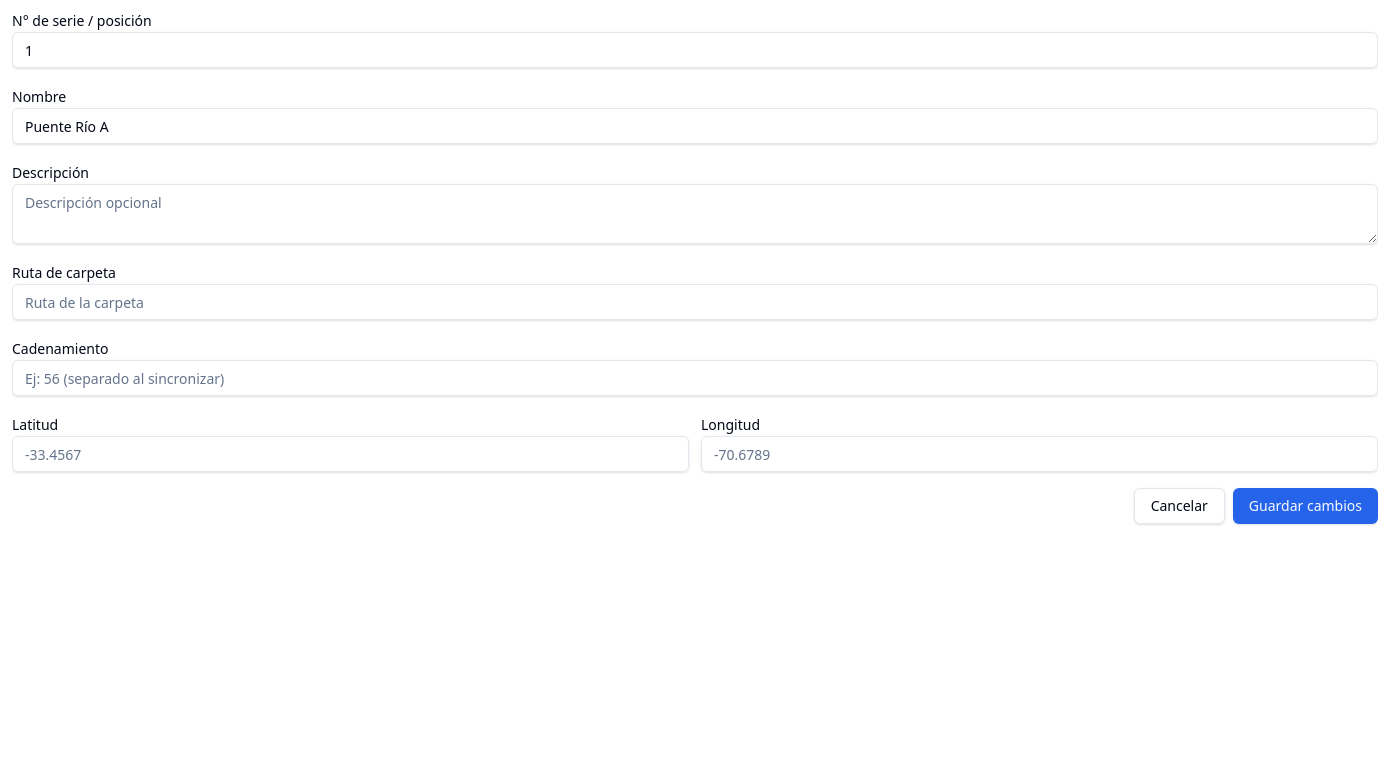
Test case: FormularioPunto — validación async de nombre duplicado › muestra el error de duplicado tras el debounce de 500ms
The width and height of the screenshot is (1390, 768).
Replace the text in the field labelled "Nombre" with "Túnel Norte": coordinates (695, 126) [12,108,1378,144]
Wait 600 ms
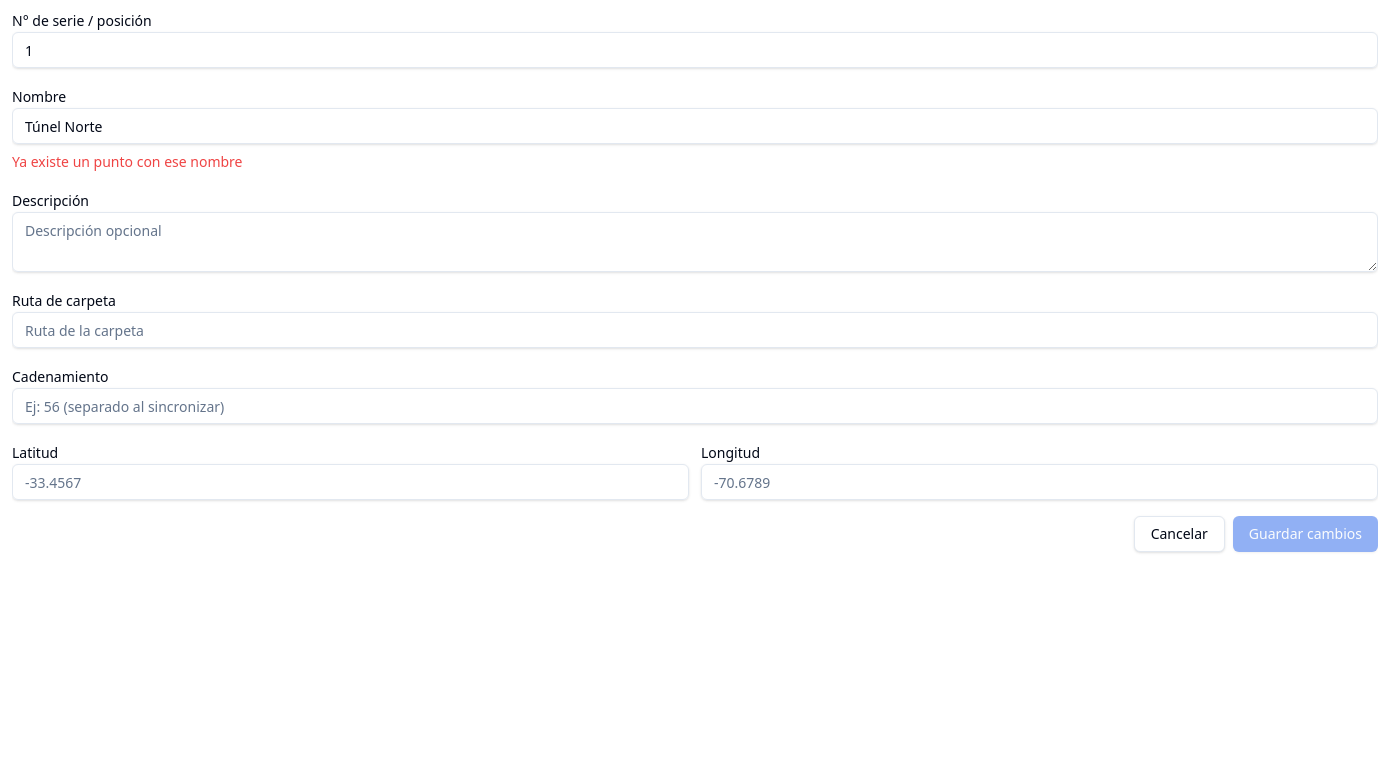
Expected: the message reads "Ya existe un punto con ese nombre", [12,152,242,171]
